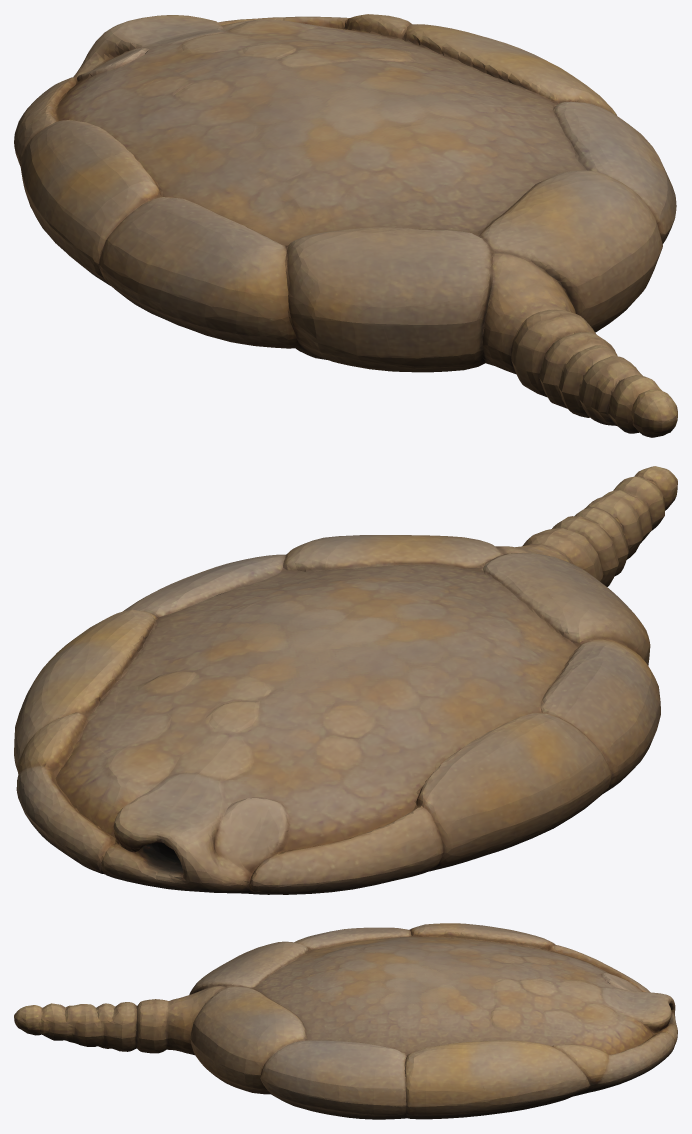
3 views of the same model, one above another, from view 1: azimuth 30°, elevation 25°; view 2: azimuth 150°, elevation 25°; view 3: azimuth 270°, elevation 25° (orthographic). The views are drawn at different scales.
Parts seen in each view (by area): view 1: world; view 2: world; view 3: world.
Boxes of the visible parts, x1,y1,x2,y2 form: world: [14, 14, 677, 437]; world: [14, 466, 677, 894]; world: [14, 923, 677, 1119].
Bounding box in the file's own units: 0.5791 × 0.1465 × 0.9954.
Materials: 1 (1 with a texture image).
